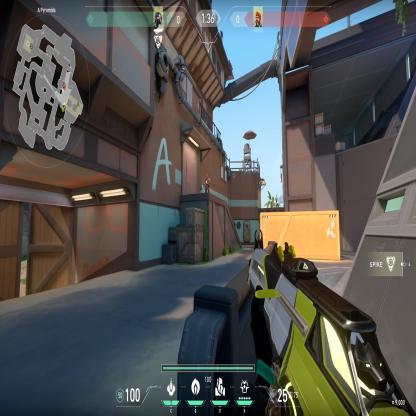enemy: (204, 173, 210, 193)
